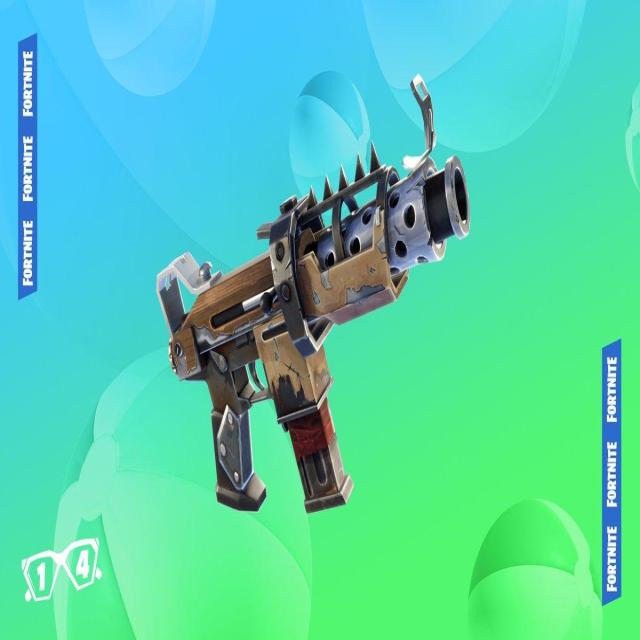weapon: (154, 65, 473, 548)
